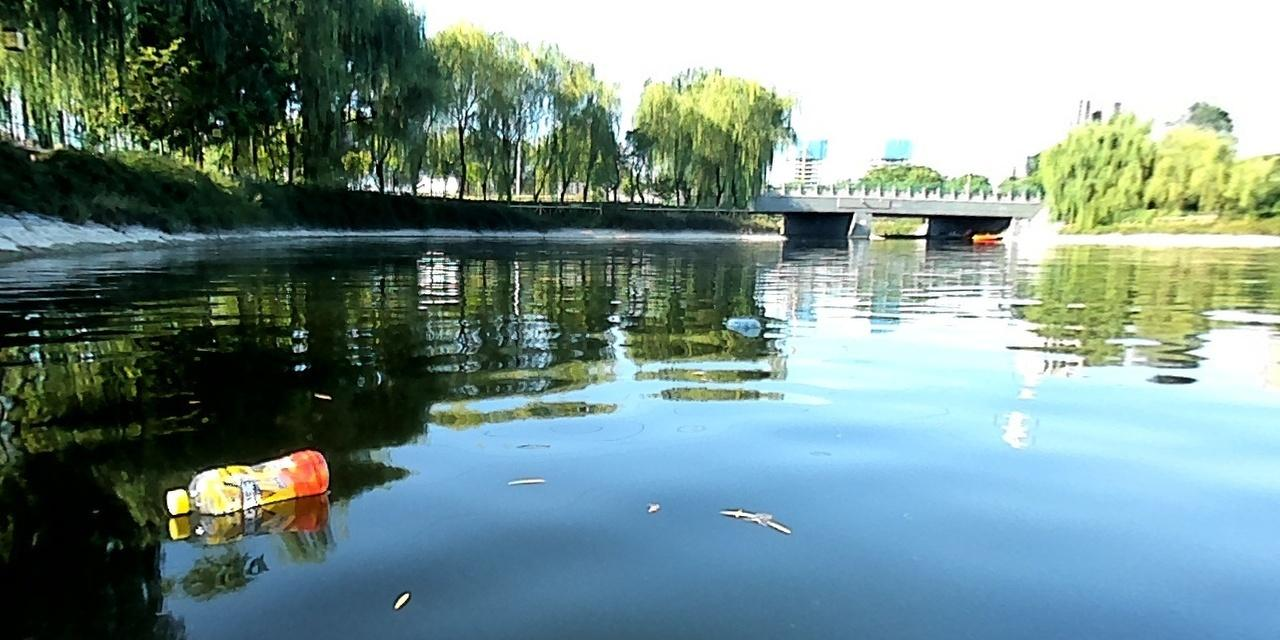bottle: (161, 443, 335, 517), (720, 314, 762, 332)
